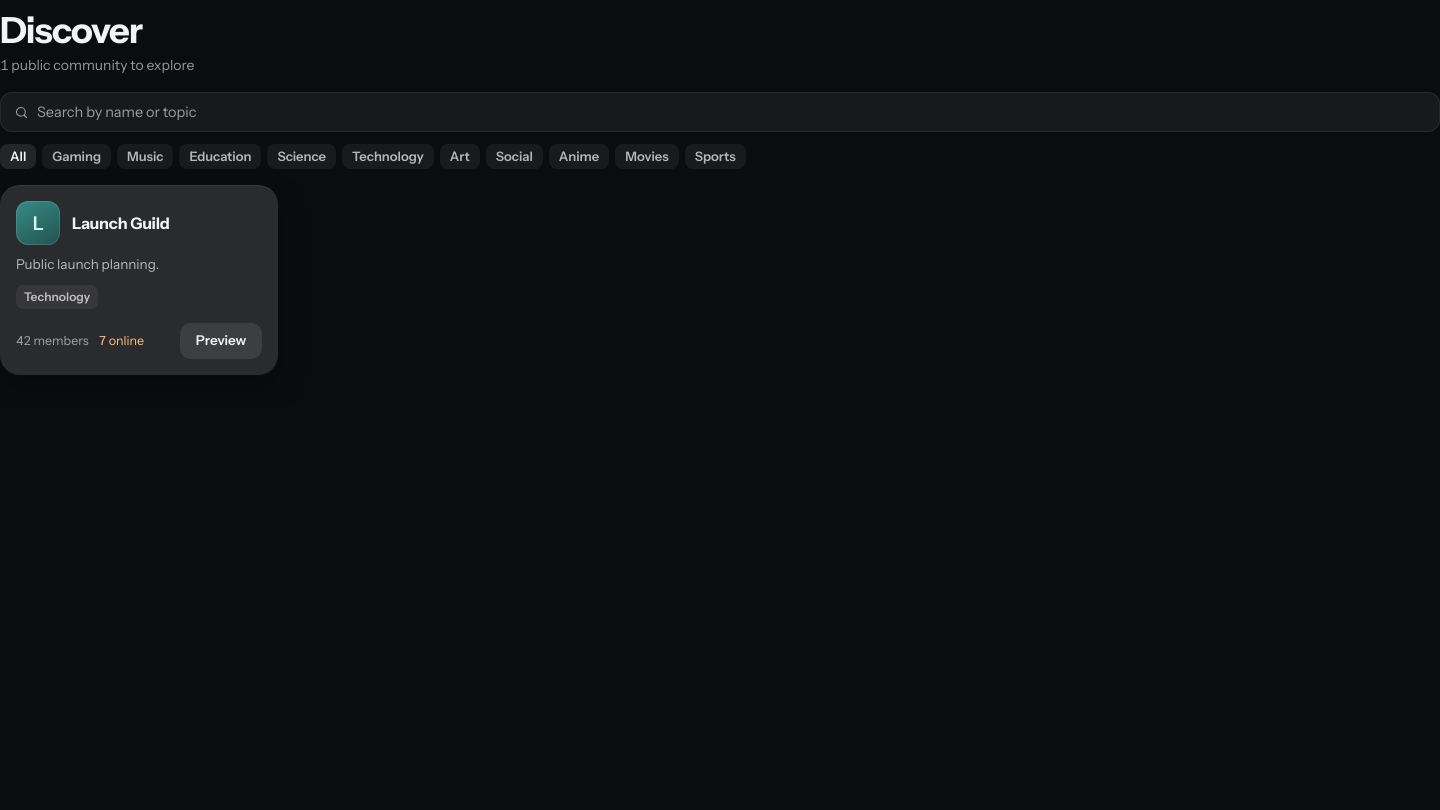
DiscoveryPage › identifies federated listings and does not offer a join action that cannot work
The width and height of the screenshot is (1440, 810).
Click the button "Preview".
click(221, 341)  # box [180,323,262,359]
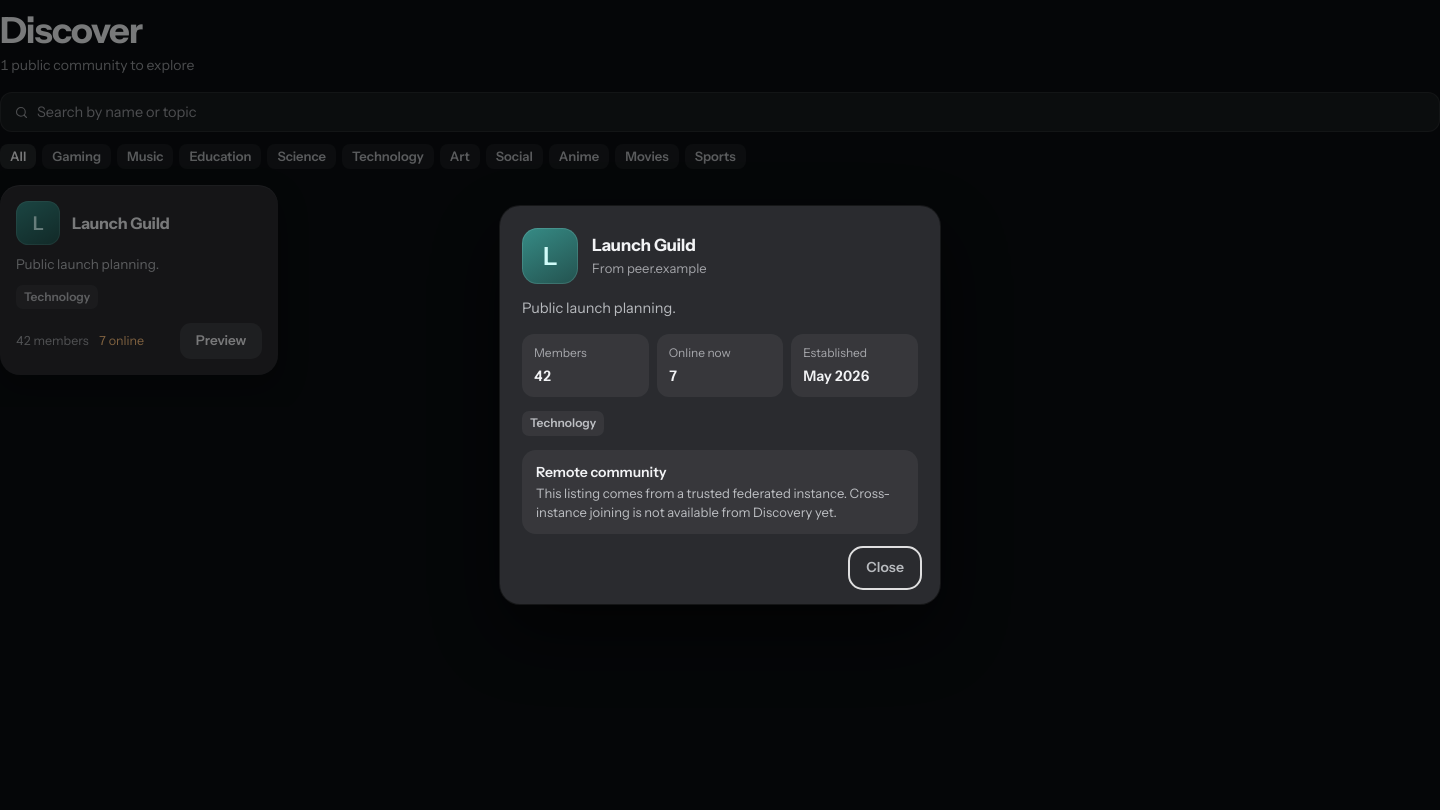
expect the dialog "Launch Guild" shows "From peer.example": met, box [592,260,707,276]
expect the text "Cross-instance joining is not available" is shown: met, box [536,485,890,520]
